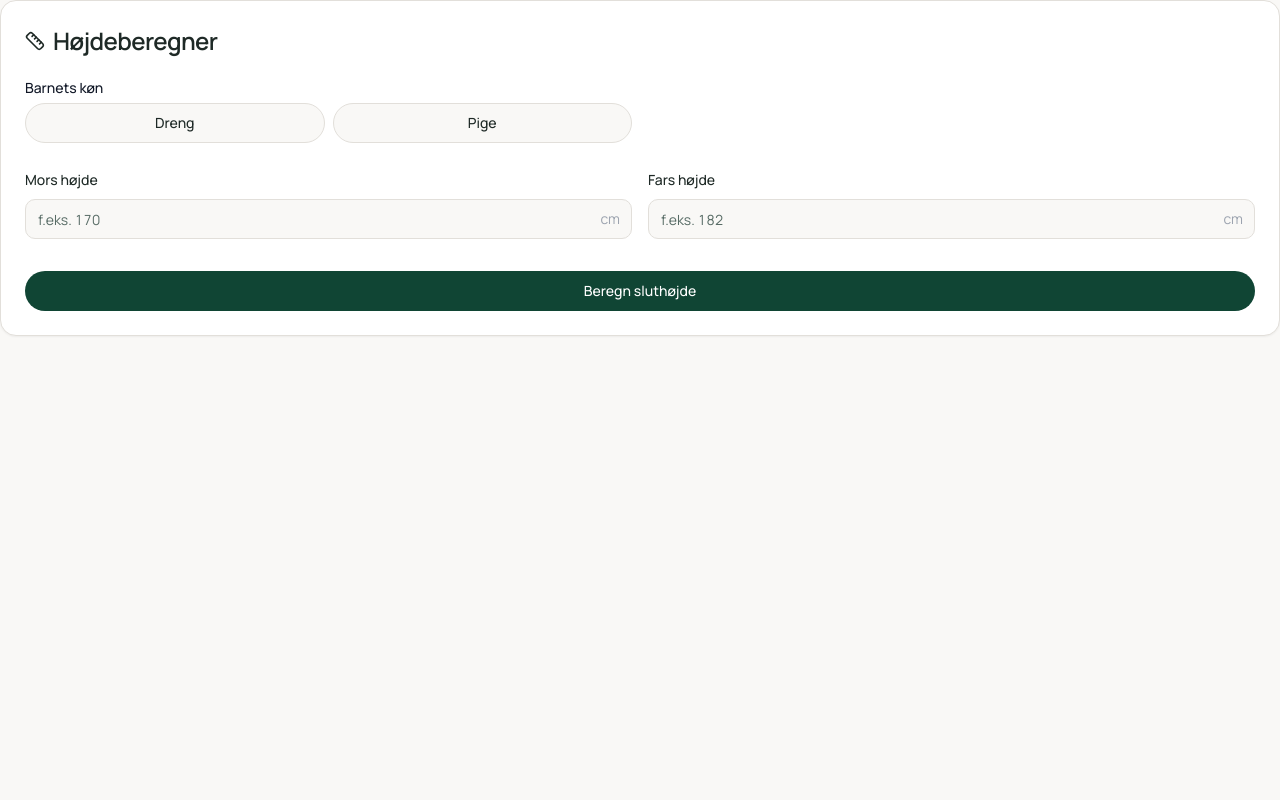
Test: AdultHeightCalculator › repeats the entered parents and puts all three heights in the figure
Click the button "Dreng" at x=175, y=123, box [25,103,324,143]
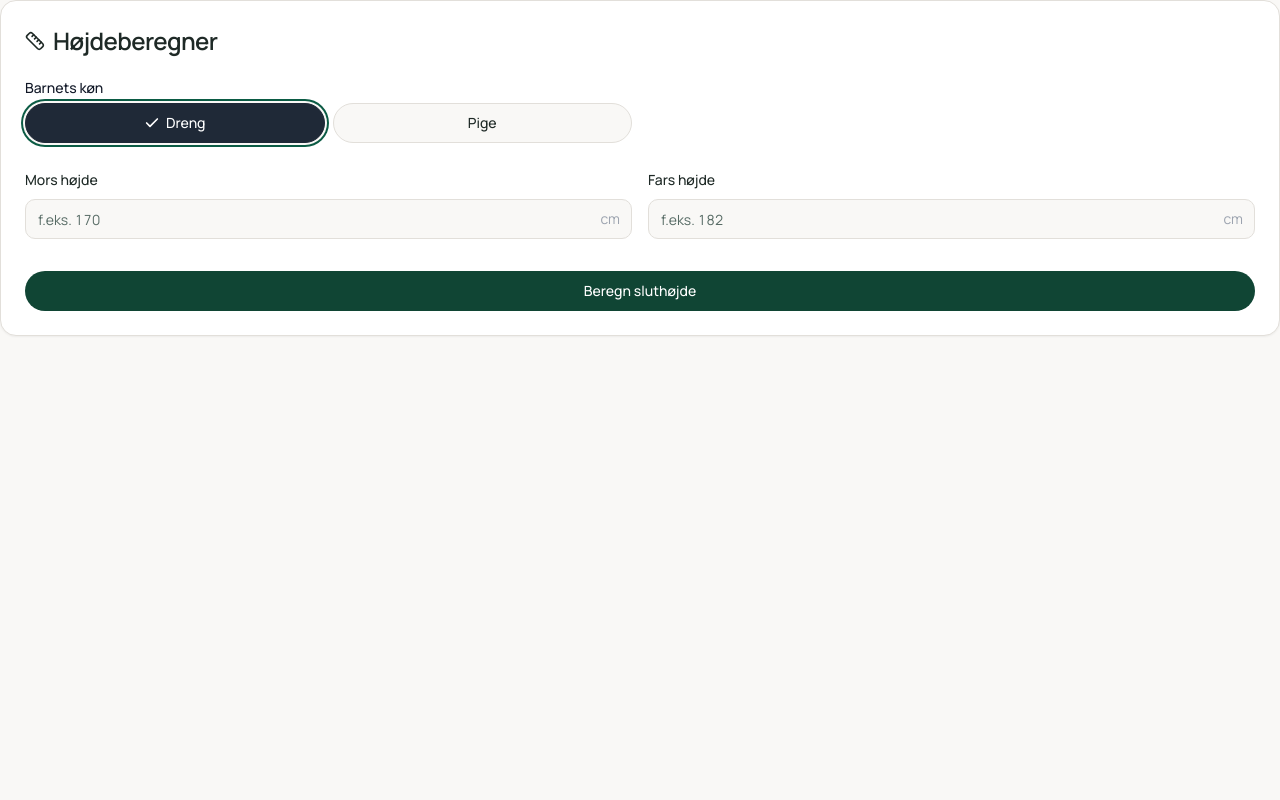
Type "170" into the field labelled "Mors højde" at x=328, y=219, box [25,199,632,239]
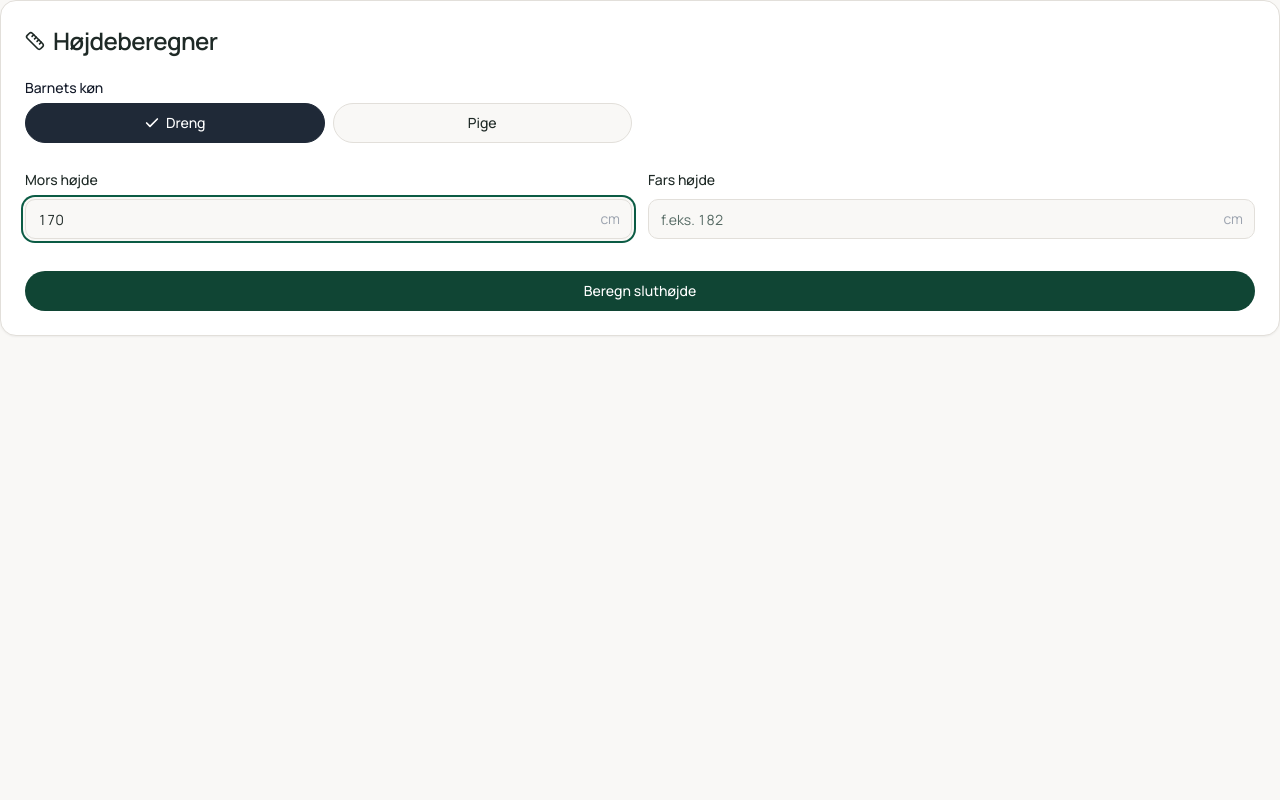
Type "182" into the field labelled "Fars højde" at x=952, y=219, box [648,199,1255,239]
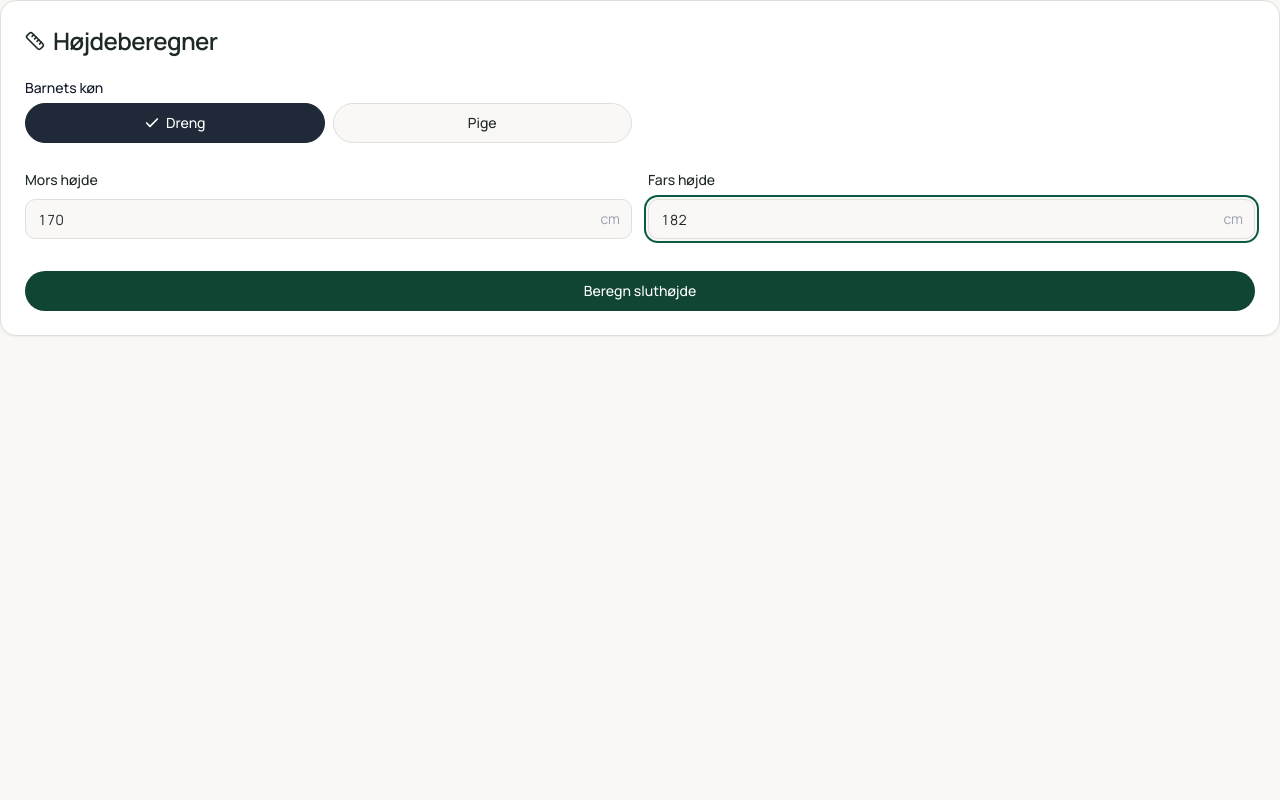
Click the button "Beregn sluthøjde" at x=640, y=291, box [25,271,1255,311]
(page scrolled)
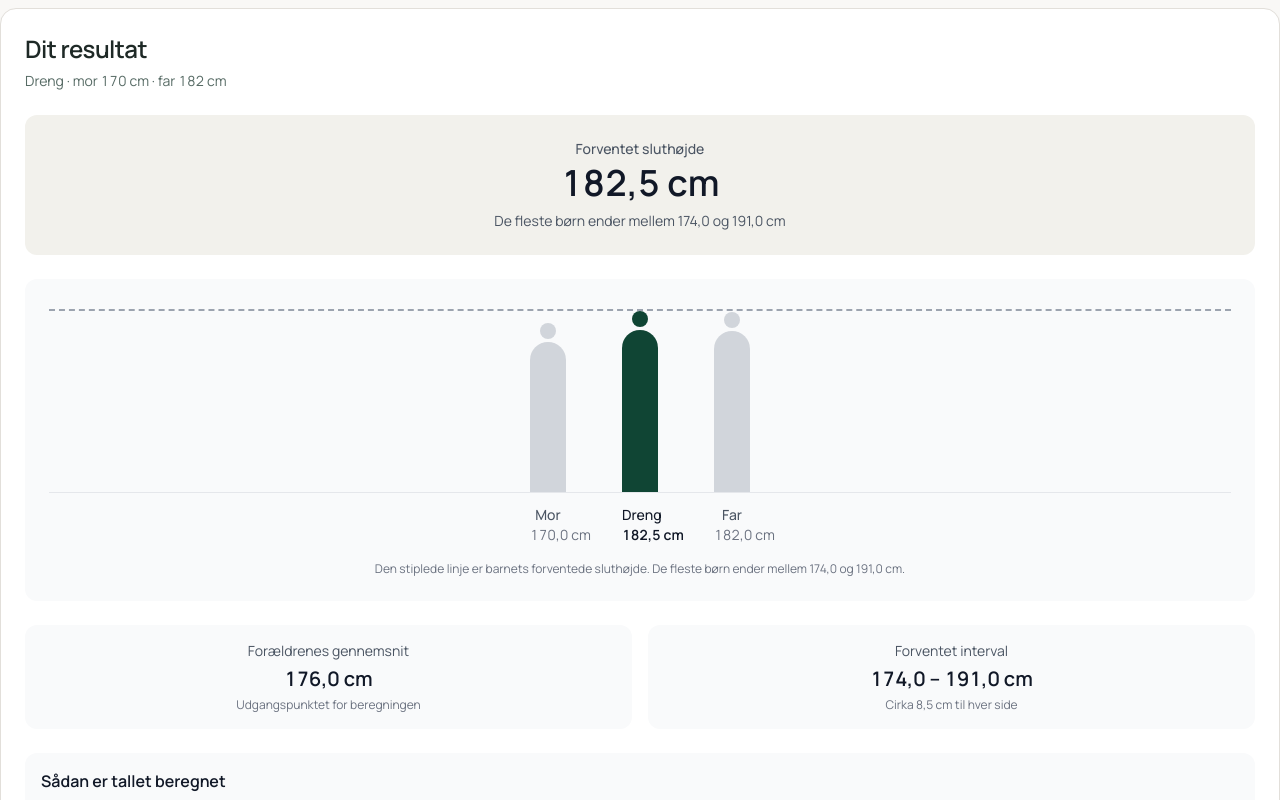
expect the text "Dreng · mor 170 cm · far 182 cm" is shown: met, box [25,71,227,90]
expect the picture named "Mor 170,0 cm, far 182,0 cm, og barnets forventede sluthøjde 182,5 cm." is shown: met, box [25,279,1255,601]
